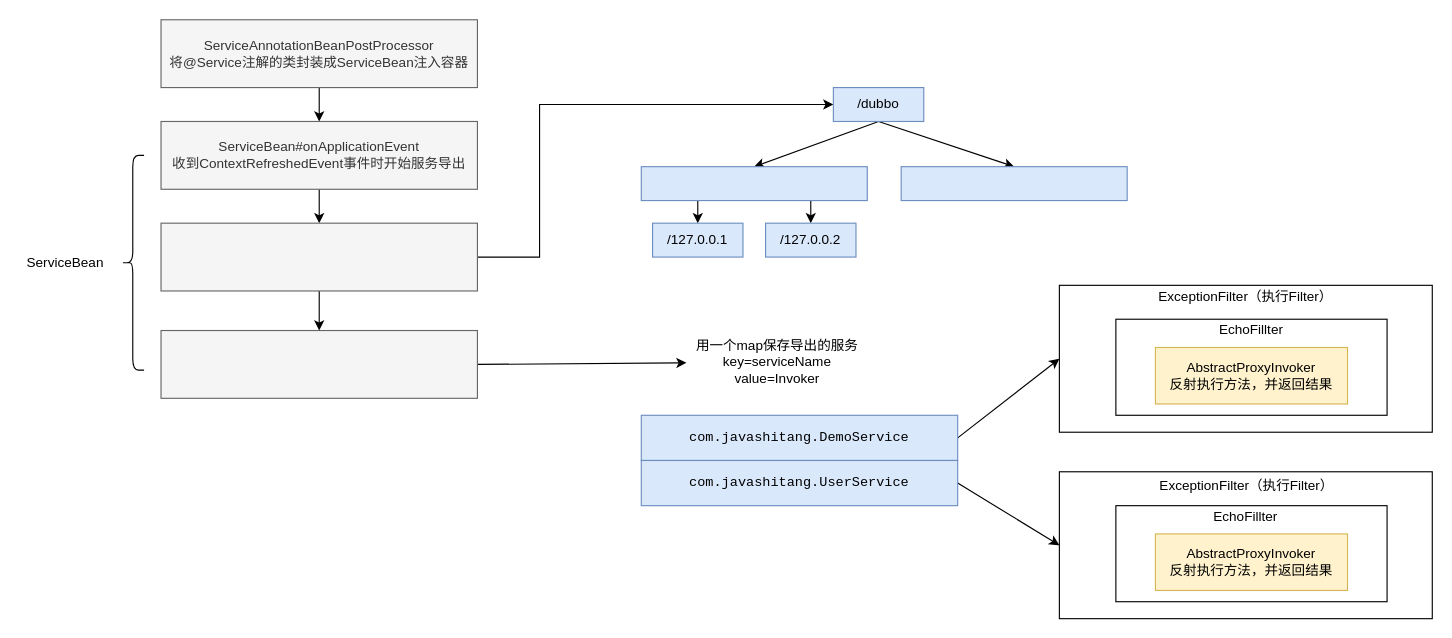
The diagram is 1452 pixels wide and 638 high, and some of its shapes have lost their labels. Here are the shapes that lost their labels. From the top down, the centre of each, then its label:
At (x=753, y=183): "/com.javashitang.DemoService".
At (x=1013, y=183): "/com.javashitang.UserService".
At (x=318, y=256): "将服务注册到Zookeeper".
At (x=318, y=363): "将服务对象包装为AbstractProxyInvoker 并保存在map中".
